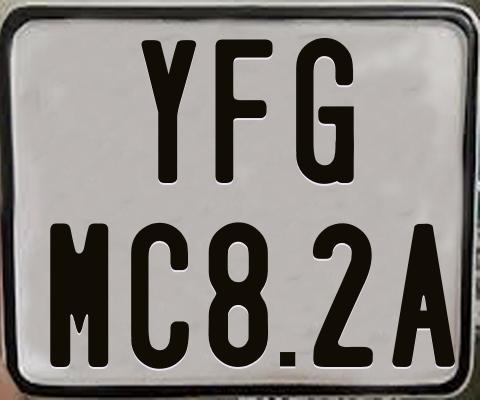2: (312, 222, 372, 369)
8: (208, 220, 268, 367)
A: (392, 223, 459, 370)
C: (128, 220, 191, 371)
F: (212, 38, 275, 183)
G: (296, 35, 358, 185)
M: (49, 220, 113, 366)
Y: (138, 37, 195, 181)
